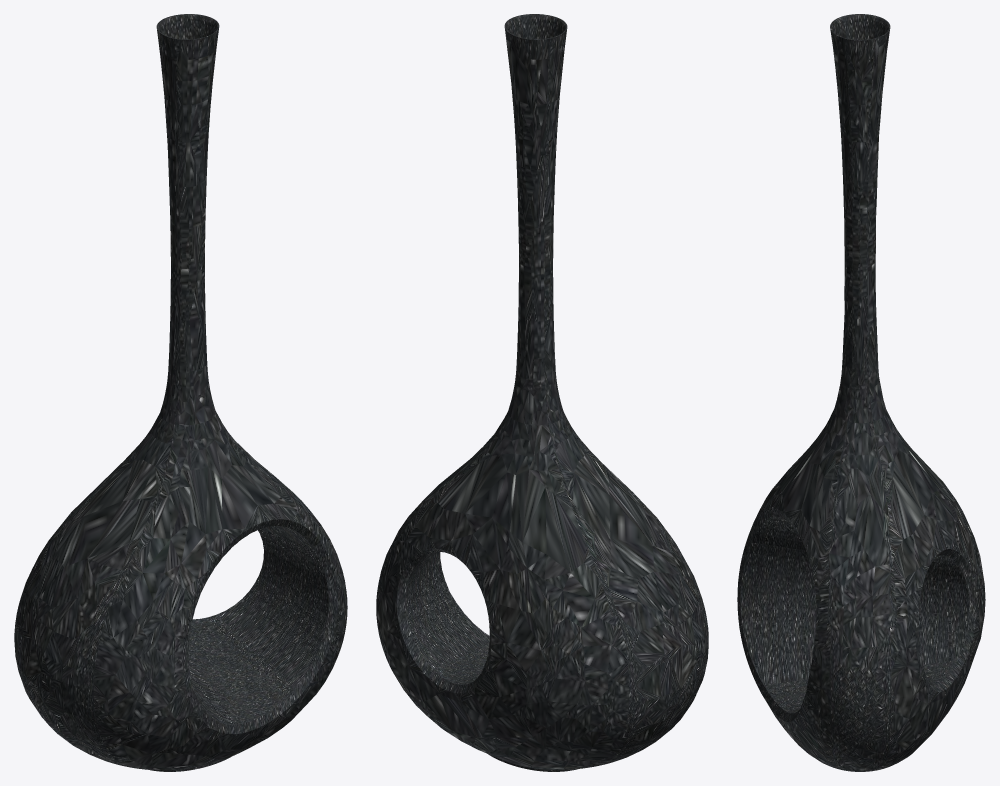
File: vase.FBX
The picture shows the model from 3 angles, left to right: view 1: azimuth 30°, elevation 25°; view 2: azimuth 150°, elevation 25°; view 3: azimuth 270°, elevation 25°; orthographic projection.
Visible parts, largest first — view 1: Sphere001; view 2: Sphere001; view 3: Sphere001.
Boxes of the visible parts, x1,y1,x2,y2 form: Sphere001: [14, 14, 347, 771]; Sphere001: [376, 14, 708, 771]; Sphere001: [737, 14, 985, 771].
Bounding box in the file's own units: 8.95 × 20.13 × 6.31.
Materials: 1 (1 with a texture image).
